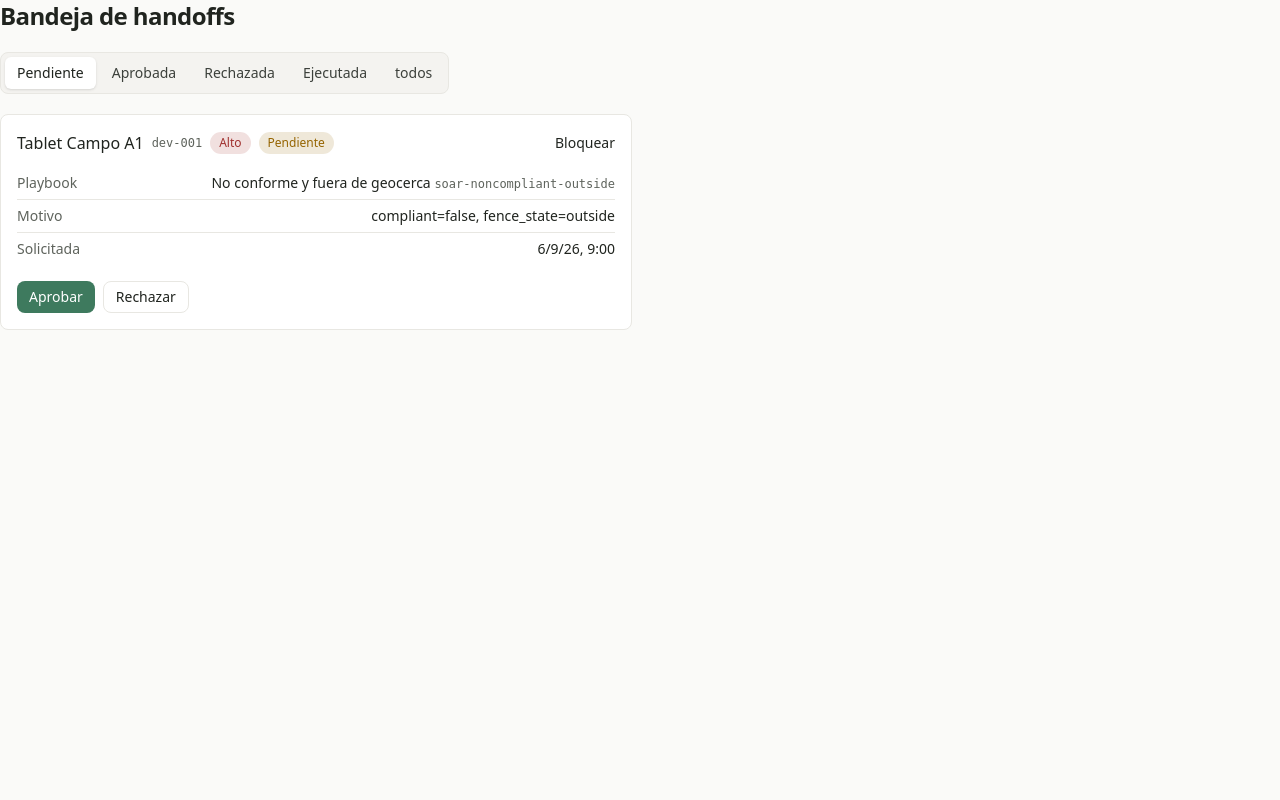
Scenario: en observe la respuesta se muestra como dry-run, no como ejecutado
Click the button "Aprobar" at (56, 297), box [17,281,95,313]
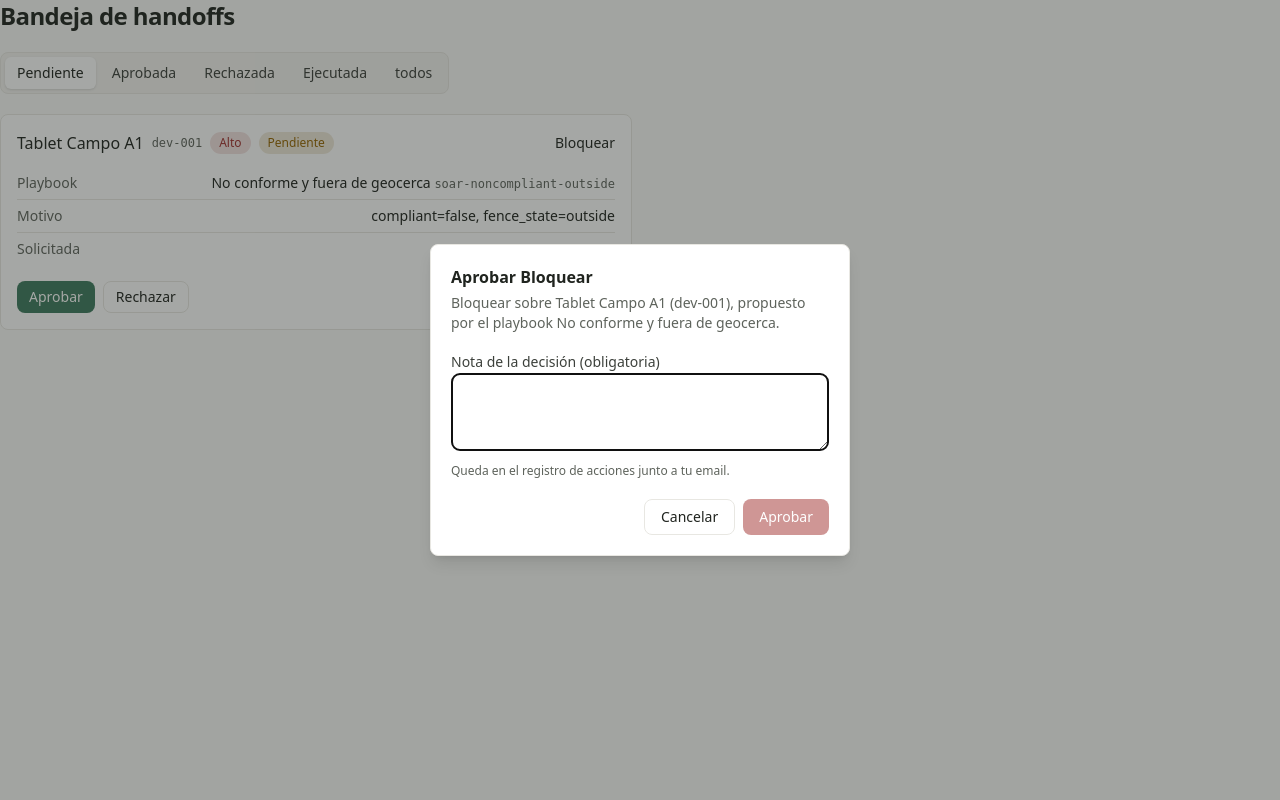
Type "confirmado por el SOC" into the text box labelled "Nota de la decisión (obligatoria)" at (640, 412), box [451,373,829,451]
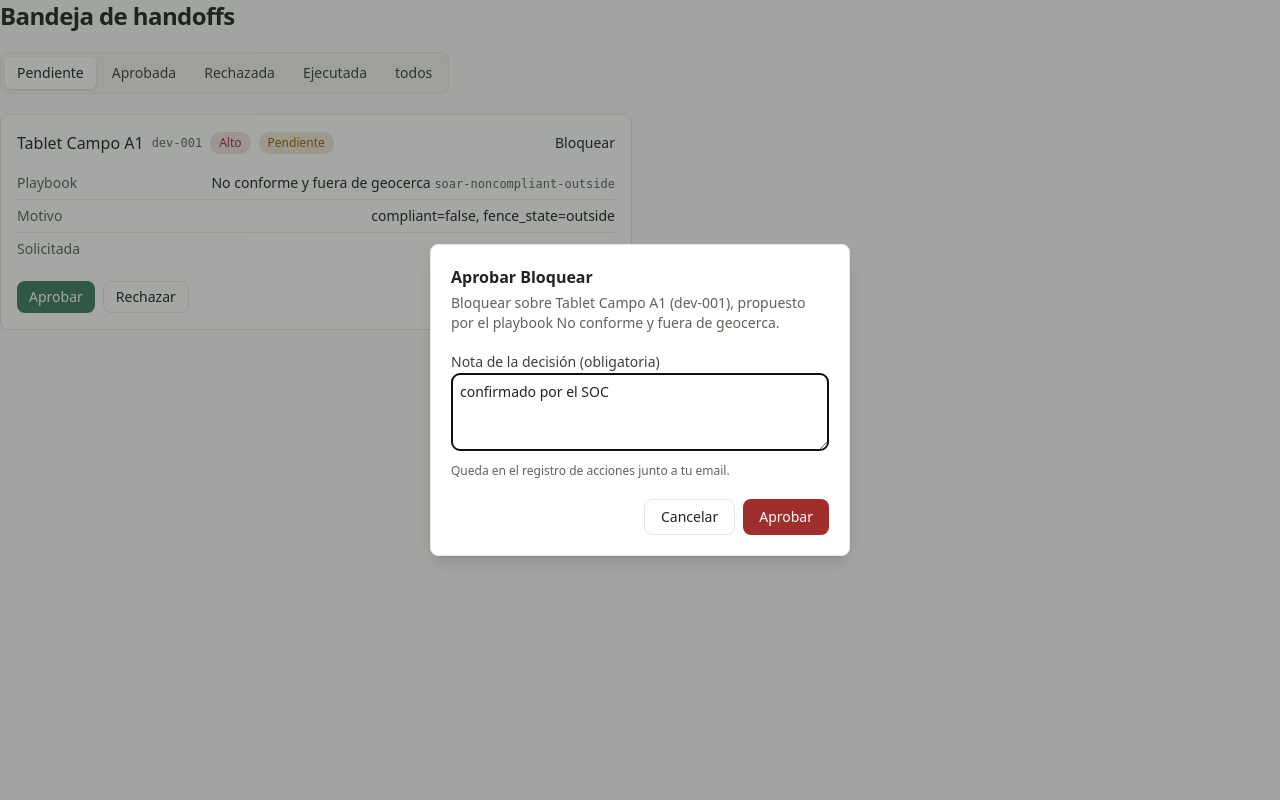
Click the button "Aprobar" at (786, 517), box [743,499,829,535]
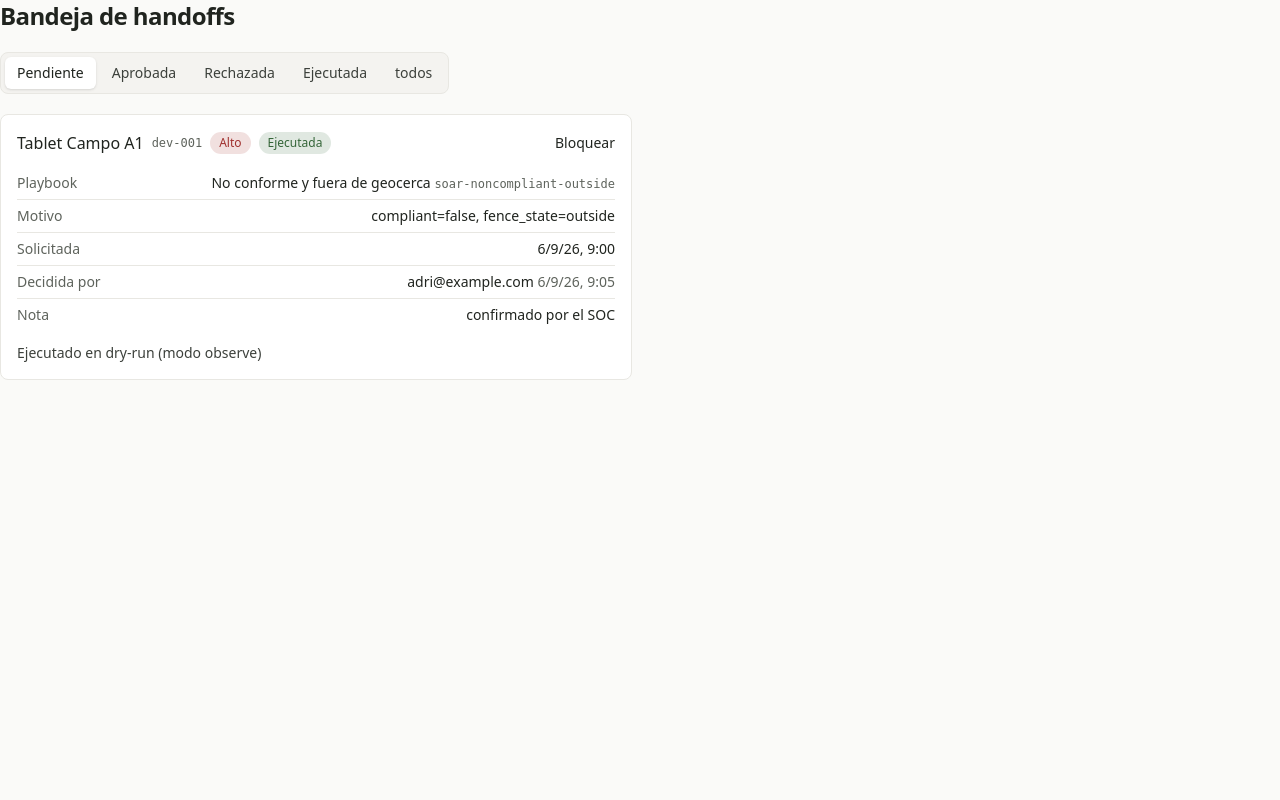
Expected: the text "Ejecutado en dry-run (modo observe)" is shown, [17,343,261,362]
Expected: the text "adri@example.com" is shown, [407,272,534,291]
